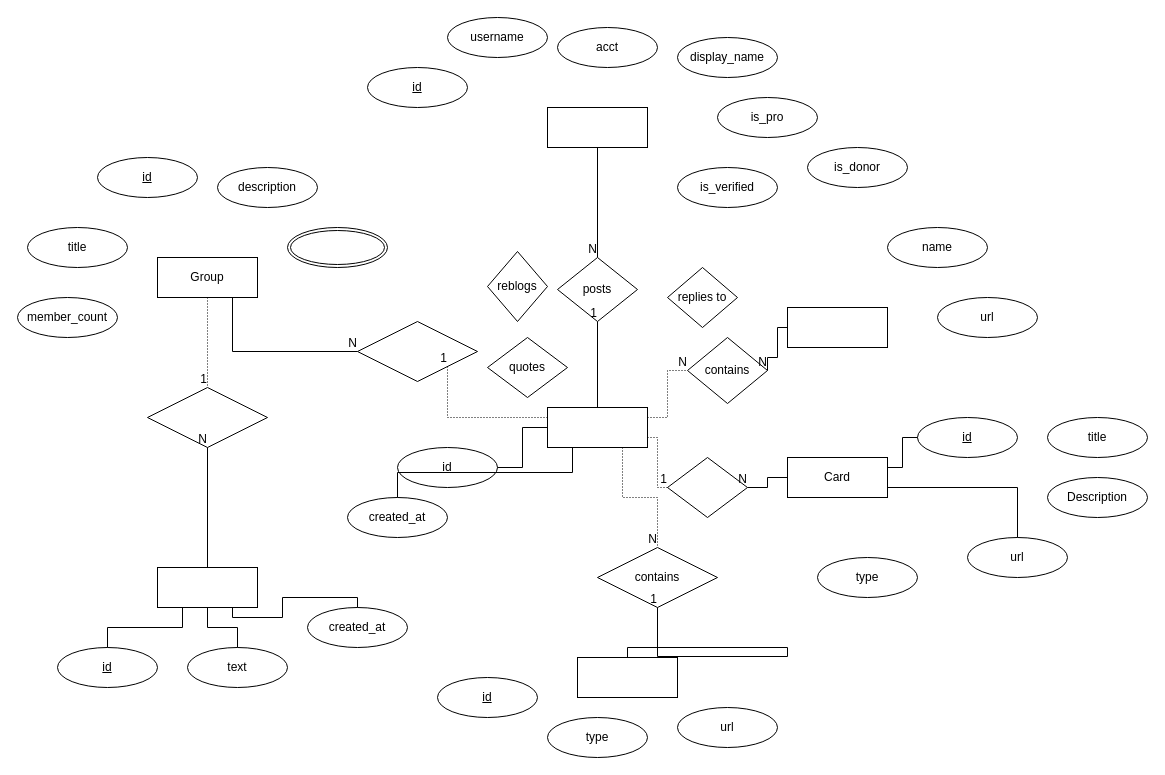
The diagram is 1165 pixels wide and 775 high, and some of its shapes have lost their labels. Each missing label, with the centre of its shape:
"Account" goes at point (597, 127).
"displays" goes at point (707, 487).
"Gab" goes at point (597, 427).
"Group Category" goes at point (207, 587).
"is a member of" goes at point (207, 417).
"is posted in" goes at point (417, 351).
"Media Attachment" goes at point (627, 677).
"Tag" goes at point (837, 327).
"tags" goes at point (337, 247).
